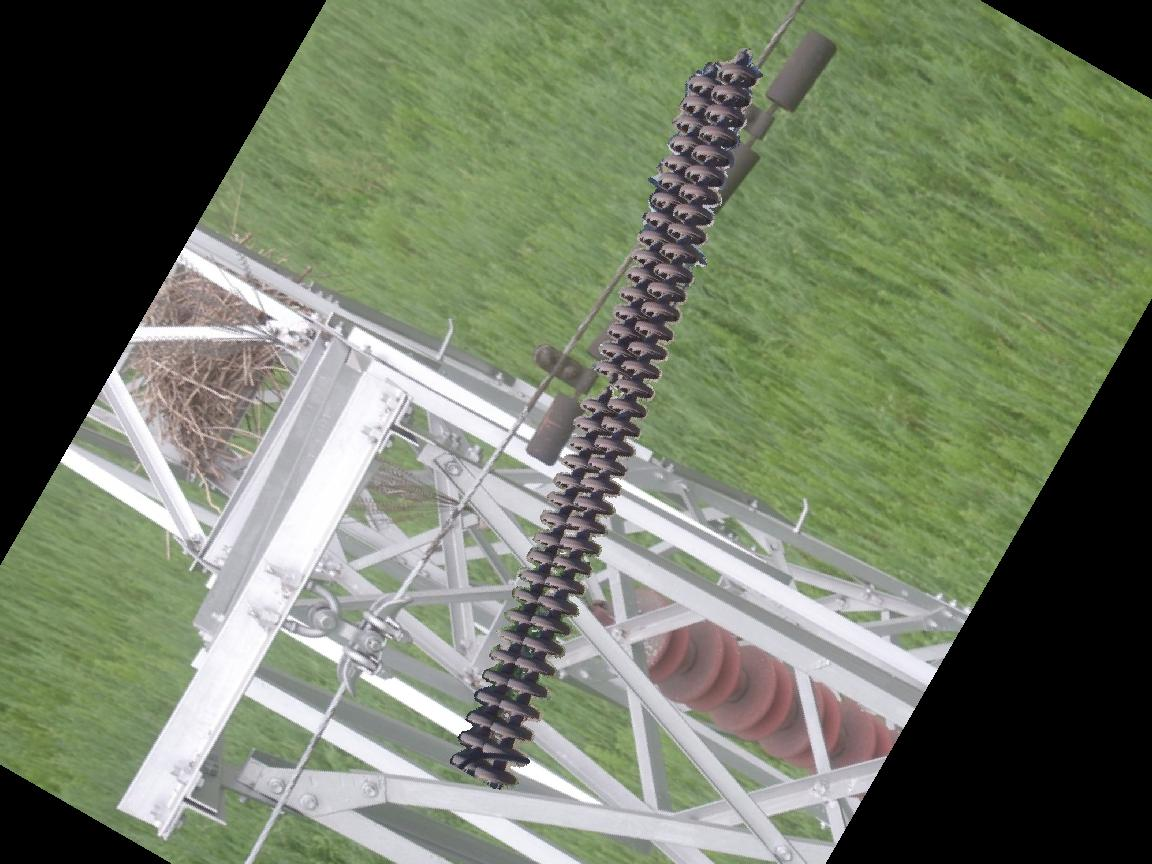insulator: (446, 52, 766, 795), (605, 584, 896, 787)
insulator_stringdrop: (577, 356, 628, 418)
